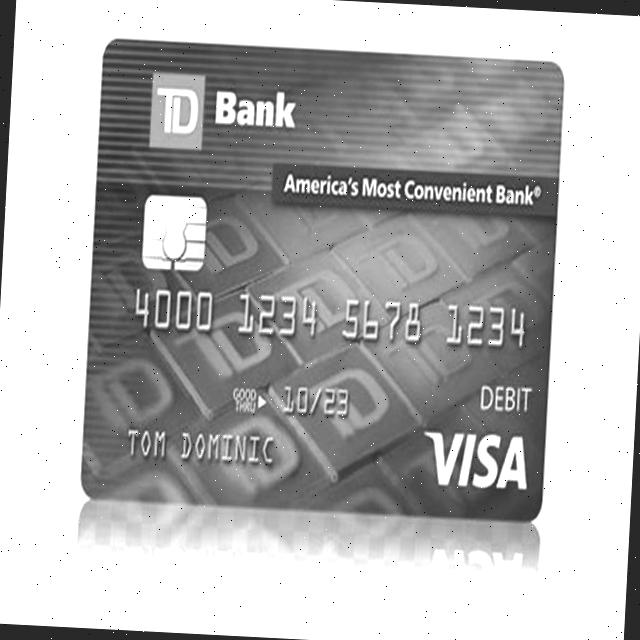card: (78, 38, 572, 524)
